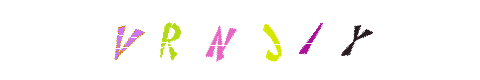I: (274, 0, 354, 80)
J: (200, 0, 280, 80)
N: (169, 0, 249, 80)
R: (166, 0, 246, 80)
V: (149, 0, 229, 80)
Y: (315, 0, 395, 80)
